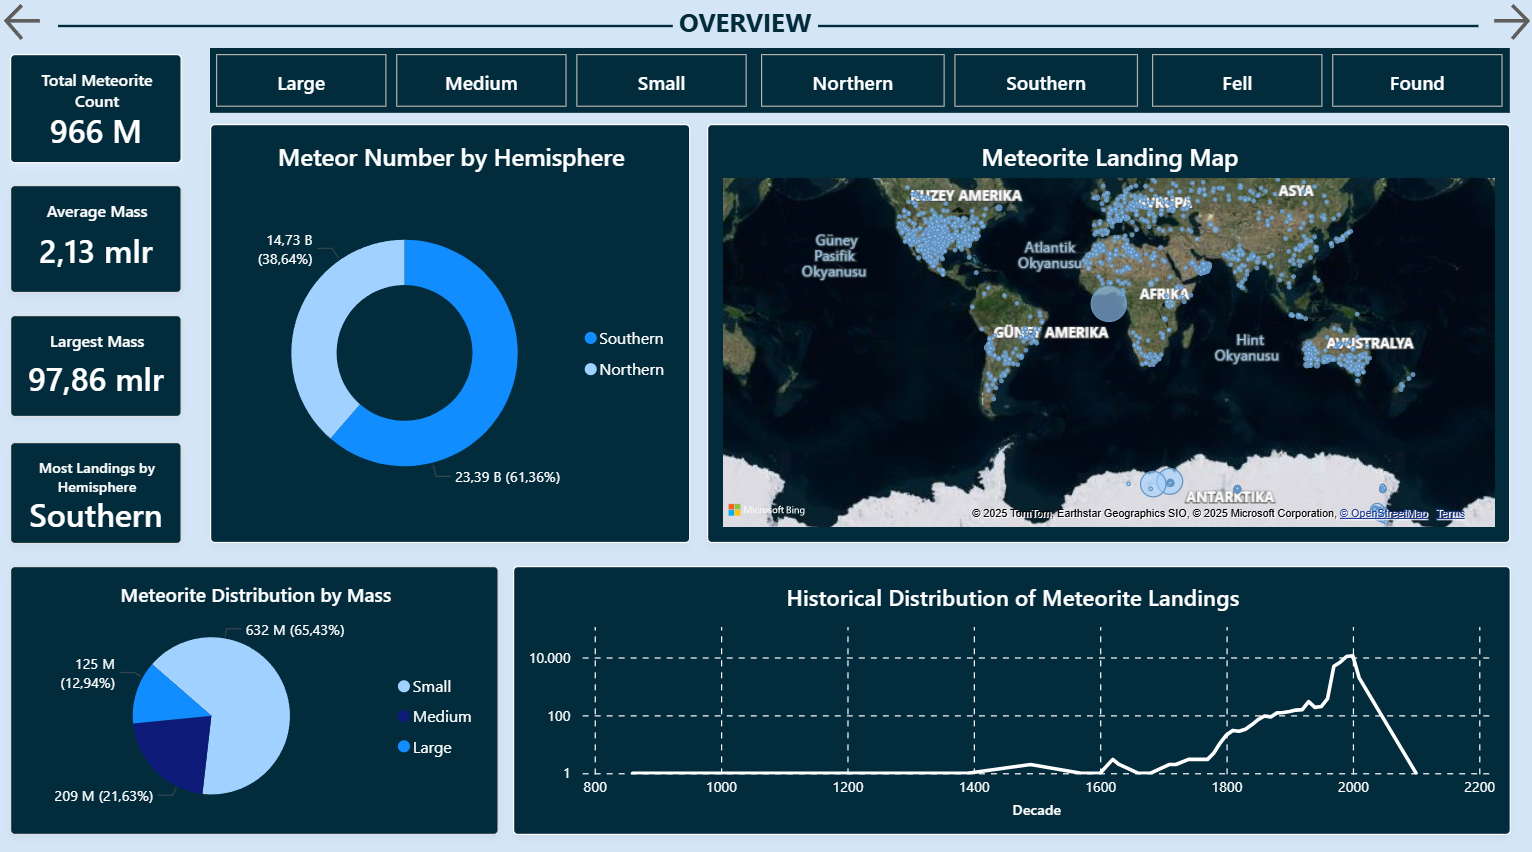

This screenshot's page, from the dashboard's own definition file:
{"tool":"powerbi","page":{"name":"Overview","canvas":[1280,720],"ordinal":1},"visuals":[{"type":"map","title":"Meteorite Landing Map","fields":{"Y":["LocationTable.FixedLat"],"X":["LocationTable.FixedLong"],"Size":["Sum(MassTable.mass_g)"]},"box":[589.3,105.3,669.3,349.3],"z":0},{"type":"lineChart","title":"Historical Distribution of Meteorite Landings","fields":{"Category":["TimeTable.Decade"],"Y":["CountNonNull(FallTable.fall)"]},"box":[427.8,473.2,830.6,223.5],"z":1000},{"type":"pieChart","title":"Meteorite Distribution by Mass","fields":{"Category":["MassTable.MassCategory"],"Y":["Sum(MassTable.id)"]},"box":[9.1,473.2,407.4,223.5],"z":2000},{"type":"card","title":"Total Meteorite Count","fields":{"Values":["Sum(MeteoriteTable.id)"]},"box":[9.1,46.5,143,90.8],"z":3000},{"type":"card","title":"Average Mass","fields":{"Values":["Avg(MassTable.mass_ton)"]},"box":[9.1,155.5,143,89.6],"z":4000},{"type":"card","title":"Largest Mass","fields":{"Values":["Max(MassTable.mass_ton)"]},"box":[9.1,264.4,143,85.1],"z":5000},{"type":"card","title":"Most Landings by Hemisphere","fields":{"Values":["Min(LocationTable.MostLandingsHemisphere)"]},"box":[9.1,369.9,143,85.1],"z":6000},{"type":"advancedSlicerVisual","fields":{"Values":["MassTable.MassCategory"]},"box":[175.9,42,453.9,54.5],"z":7000},{"type":"advancedSlicerVisual","fields":{"Values":["LocationTable.Hemisphere"]},"box":[629.8,42,325.7,54.5],"z":8000},{"type":"advancedSlicerVisual","fields":{"Values":["FallTable.fall"]},"box":[955.5,42,303,54.5],"z":9000},{"type":"textbox","box":[561.7,0,135,38.6],"z":10000},{"type":"donutChart","title":"Meteor Number by Hemisphere","fields":{"Y":["CountNonNull(LocationTable.id)"],"Category":["LocationTable.Hemisphere"]},"box":[176,105.3,400,349.3],"z":11000},{"type":"shape","box":[49.1,0,512.2,46.6],"z":12000},{"type":"shape","box":[682.1,0,550.5,46.6],"z":13000},{"type":"actionButton","box":[0,0,100,40],"z":14000},{"type":"actionButton","box":[1239.2,0,40.8,40],"z":15000}]}

Visuals, with their boxes in screenshot pixels (x1, y1, x2, y2), scaled from the page's 1280x720 canvas onto the 1532x852 screenshot:
"Meteorite Landing Map" map: {"left": 705, "top": 125, "right": 1506, "bottom": 538}
"Historical Distribution of Meteorite Landings" lineChart: {"left": 512, "top": 560, "right": 1506, "bottom": 824}
"Meteorite Distribution by Mass" pieChart: {"left": 11, "top": 560, "right": 498, "bottom": 824}
"Total Meteorite Count" card: {"left": 11, "top": 55, "right": 182, "bottom": 162}
"Average Mass" card: {"left": 11, "top": 184, "right": 182, "bottom": 290}
"Largest Mass" card: {"left": 11, "top": 313, "right": 182, "bottom": 414}
"Most Landings by Hemisphere" card: {"left": 11, "top": 438, "right": 182, "bottom": 538}
advancedSlicerVisual - MassTable.MassCategory: {"left": 211, "top": 50, "right": 754, "bottom": 114}
advancedSlicerVisual - LocationTable.Hemisphere: {"left": 754, "top": 50, "right": 1144, "bottom": 114}
advancedSlicerVisual - FallTable.fall: {"left": 1144, "top": 50, "right": 1506, "bottom": 114}
textbox: {"left": 672, "top": 0, "right": 834, "bottom": 46}
"Meteor Number by Hemisphere" donutChart: {"left": 211, "top": 125, "right": 689, "bottom": 538}
shape: {"left": 59, "top": 0, "right": 672, "bottom": 55}
shape: {"left": 816, "top": 0, "right": 1475, "bottom": 55}
actionButton: {"left": 0, "top": 0, "right": 120, "bottom": 47}
actionButton: {"left": 1483, "top": 0, "right": 1531, "bottom": 47}
